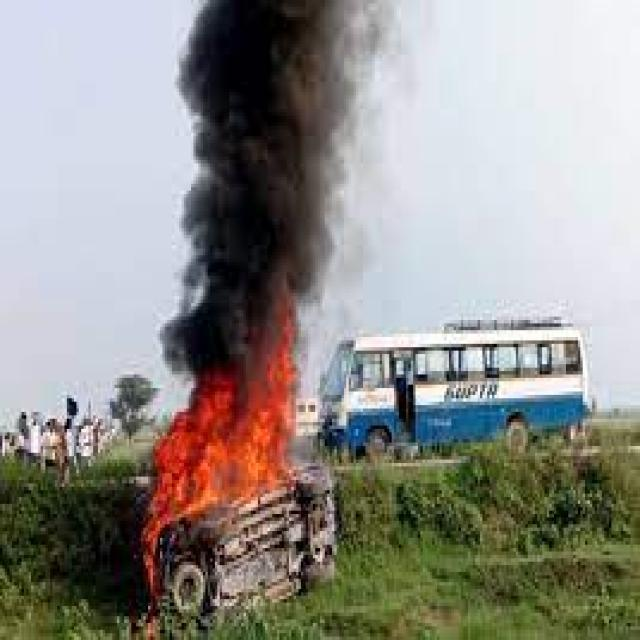Fire: (152, 418, 296, 486), (191, 368, 297, 414), (155, 490, 260, 520), (142, 523, 160, 592), (258, 336, 297, 367)
Smoke: (178, 0, 352, 309), (162, 316, 297, 366)
